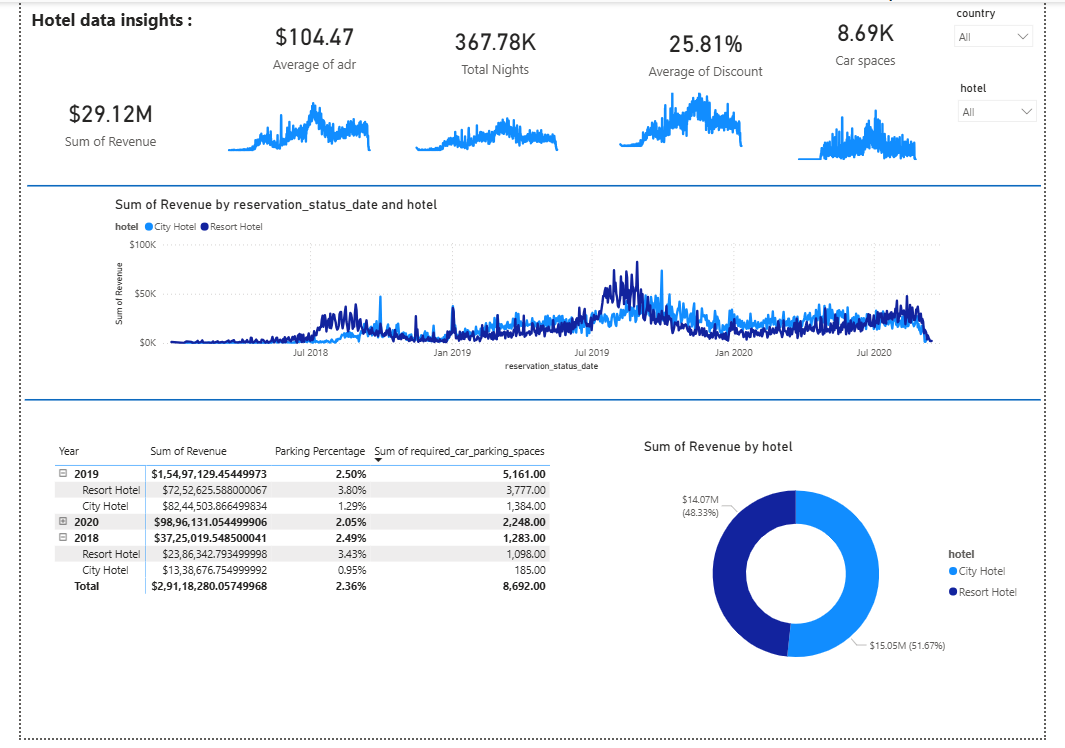

The dashboard page shown, as its layout file describes it:
{"tool":"powerbi","page":{"name":"Page 1","canvas":[1280,920],"ordinal":0},"visuals":[{"type":"shape","box":[7.8,217.2,1267.2,25],"z":0},{"type":"shape","box":[4.3,484.3,1270,25.7],"z":1000},{"type":"card","fields":{"Values":["Sum(Query1.Revenue)"]},"box":[0,95.8,223.9,107],"z":2000},{"type":"card","fields":{"Values":["Avg(Query1.adr)"]},"box":[271.4,-2.9,190,112.9],"z":3000},{"type":"card","fields":{"Values":["Query1.Total Nights"]},"box":[451.4,0,282.9,118.6],"z":4000},{"type":"card","fields":{"Values":["Avg(Query1.Discount)"]},"box":[712.9,0,224.3,104.3],"z":5000},{"type":"lineChart","fields":{"Category":["Query1.reservation_status_date"],"Y":["Sum(Query1.adr)"]},"box":[245.7,104.3,205.7,87.1],"z":6000},{"type":"lineChart","fields":{"Category":["Query1.reservation_status_date"],"Y":["Query1.Total Nights"]},"box":[480,120,205.7,71.4],"z":7000},{"type":"lineChart","fields":{"Category":["Query1.reservation_status_date"],"Y":["Sum(Query1.Discount)"]},"box":[734.3,94.3,181.4,92.9],"z":8000},{"type":"lineChart","fields":{"Category":["Query1.reservation_status_date"],"Y":["Sum(Query1.required_car_parking_spaces)"]},"box":[958.6,100,175.7,102.9],"z":9000},{"type":"card","fields":{"Values":["Sum(Query1.required_car_parking_spaces)"]},"box":[958.6,1.4,195.7,92.9],"z":10000},{"type":"donutChart","fields":{"Category":["Query1.hotel"],"Y":["Sum(Query1.Revenue)"]},"box":[772.9,545.7,485.7,320],"z":11000},{"type":"pivotTable","fields":{"Rows":["Query1.reservation_status_date.Variation.Date Hierarchy.Year","Query1.hotel"],"Values":["Sum(Query1.Revenue)","Query1.Parking Percentage","Sum(Query1.required_car_parking_spaces)"]},"box":[37.1,545.7,664.3,320],"z":12000},{"type":"card","fields":{"Values":["Avg(Query1.Discount)"]},"box":[734.3,0,224.3,104.3],"z":13000},{"type":"card","fields":{"Values":["Avg(Query1.Discount)"]},"box":[744.3,10,224.3,104.3],"z":14000},{"type":"lineChart","fields":{"Category":["Query1.reservation_status_date"],"Y":["Sum(Query1.Revenue)"],"Series":["Query1.hotel"]},"box":[112.8,241.6,1053,224.1],"z":15000},{"type":"slicer","fields":{"Values":["Query1.country"]},"box":[1155.5,0,118.6,82],"z":16000},{"type":"slicer","fields":{"Values":["Query1.hotel"]},"box":[1161.4,93.7,118.6,82],"z":17000},{"type":"textbox","box":[8.5,1.4,215.5,57.7],"z":18000}]}

Visuals, with their boxes in screenshot pixels (x1, y1, x2, y2), scaled from the page's 1280x920 canvas onto the 1065x748 screenshot:
shape: {"left": 6, "top": 177, "right": 1061, "bottom": 197}
shape: {"left": 4, "top": 394, "right": 1060, "bottom": 415}
card - Sum(Query1.Revenue): {"left": 0, "top": 78, "right": 186, "bottom": 165}
card - Avg(Query1.adr): {"left": 226, "top": 0, "right": 384, "bottom": 89}
card - Query1.Total Nights: {"left": 376, "top": 0, "right": 611, "bottom": 96}
card - Avg(Query1.Discount): {"left": 593, "top": 0, "right": 780, "bottom": 85}
lineChart - Query1.reservation_status_date x Sum(Query1.adr): {"left": 204, "top": 85, "right": 376, "bottom": 156}
lineChart - Query1.reservation_status_date x Query1.Total Nights: {"left": 399, "top": 98, "right": 571, "bottom": 156}
lineChart - Query1.reservation_status_date x Sum(Query1.Discount): {"left": 611, "top": 77, "right": 762, "bottom": 152}
lineChart - Query1.reservation_status_date x Sum(Query1.required_car_parking_spaces): {"left": 798, "top": 81, "right": 944, "bottom": 165}
card - Sum(Query1.required_car_parking_spaces): {"left": 798, "top": 1, "right": 960, "bottom": 77}
donutChart - Query1.hotel x Sum(Query1.Revenue): {"left": 643, "top": 444, "right": 1047, "bottom": 704}
pivotTable - Query1.reservation_status_date.Variation.Date Hierarchy.Year x Query1.hotel: {"left": 31, "top": 444, "right": 584, "bottom": 704}
card - Avg(Query1.Discount): {"left": 611, "top": 0, "right": 798, "bottom": 85}
card - Avg(Query1.Discount): {"left": 619, "top": 8, "right": 806, "bottom": 93}
lineChart - Query1.reservation_status_date x Sum(Query1.Revenue): {"left": 94, "top": 196, "right": 970, "bottom": 379}
slicer - Query1.country: {"left": 961, "top": 0, "right": 1060, "bottom": 67}
slicer - Query1.hotel: {"left": 966, "top": 76, "right": 1064, "bottom": 143}
textbox: {"left": 7, "top": 1, "right": 186, "bottom": 48}
